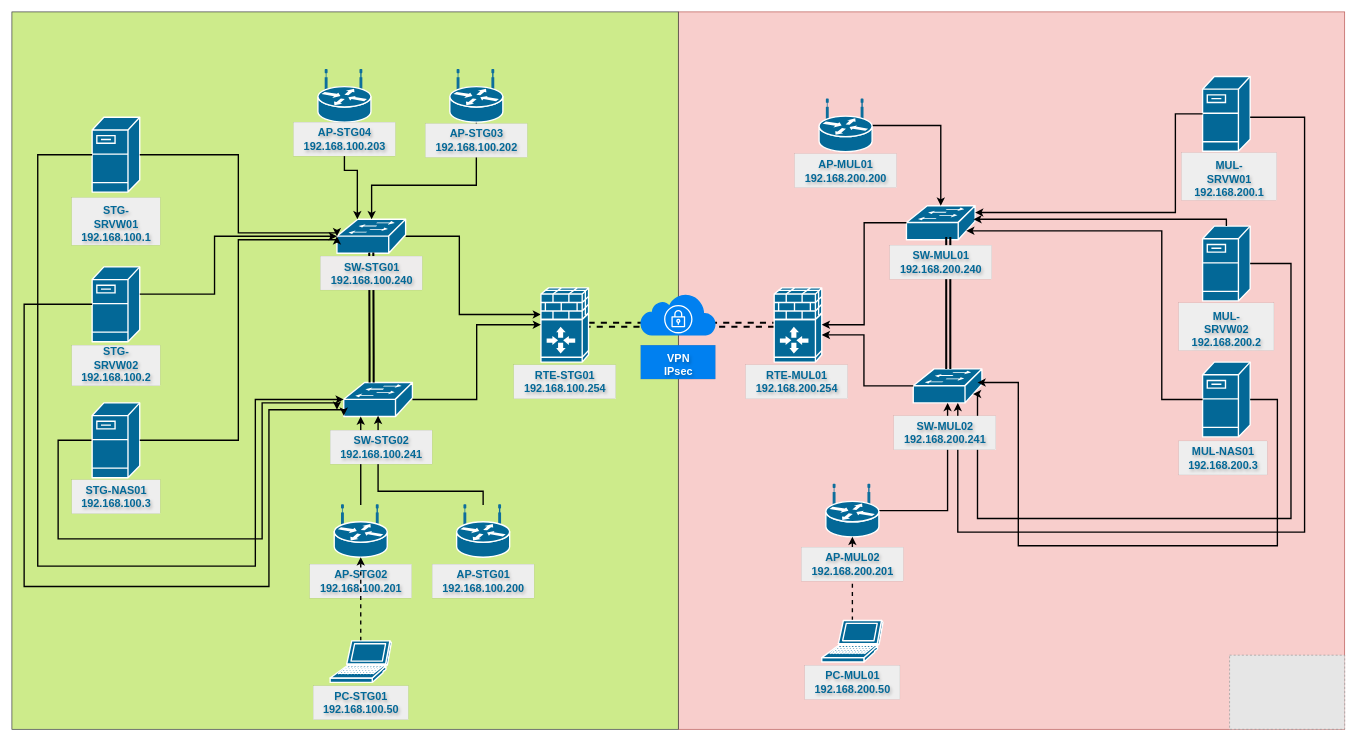
Some shapes in this 1357 by 741 pixel diagram are drawn without their labels. Grey dashed boxes stand in for pictures. The shapes that lost their labels are listed below. From the top down, each one's box as (x1, y1, x2, y2) in pixels, then its label:
(11, 11, 678, 729): SITE A - STRASBOURG
(678, 11, 1345, 729): SITE B - MULHOUSE
